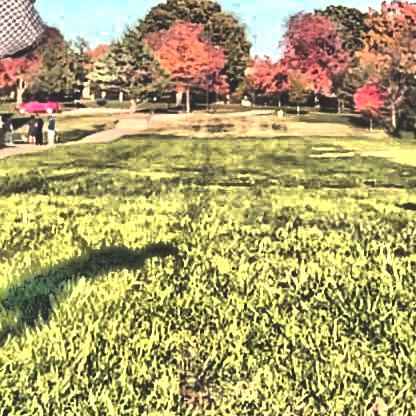golfball: (91, 94, 106, 104)
